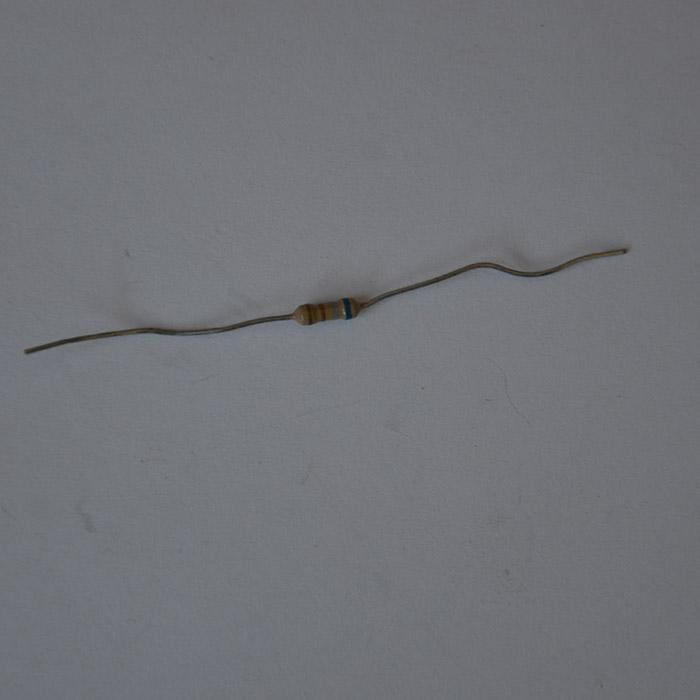resistor: (292, 297, 357, 324)
